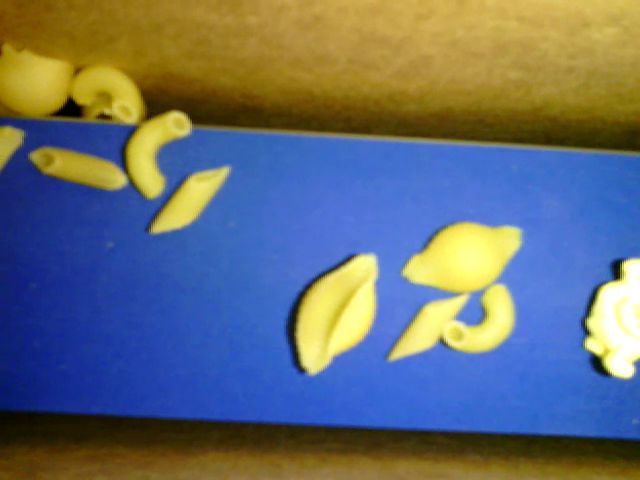elbow: (124, 110, 191, 198), (441, 285, 517, 351), (69, 64, 141, 121)
penne: (389, 293, 469, 362), (148, 167, 230, 232), (28, 148, 126, 191)
shell: (292, 253, 380, 375), (401, 221, 521, 291), (1, 43, 74, 115), (82, 93, 122, 121)
